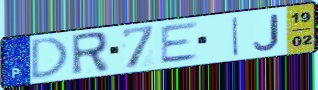7: (121, 24, 157, 70)
D: (29, 35, 71, 82)
E: (159, 20, 200, 65)
I: (231, 15, 241, 58)
J: (252, 13, 282, 52)
R: (70, 30, 111, 78)
